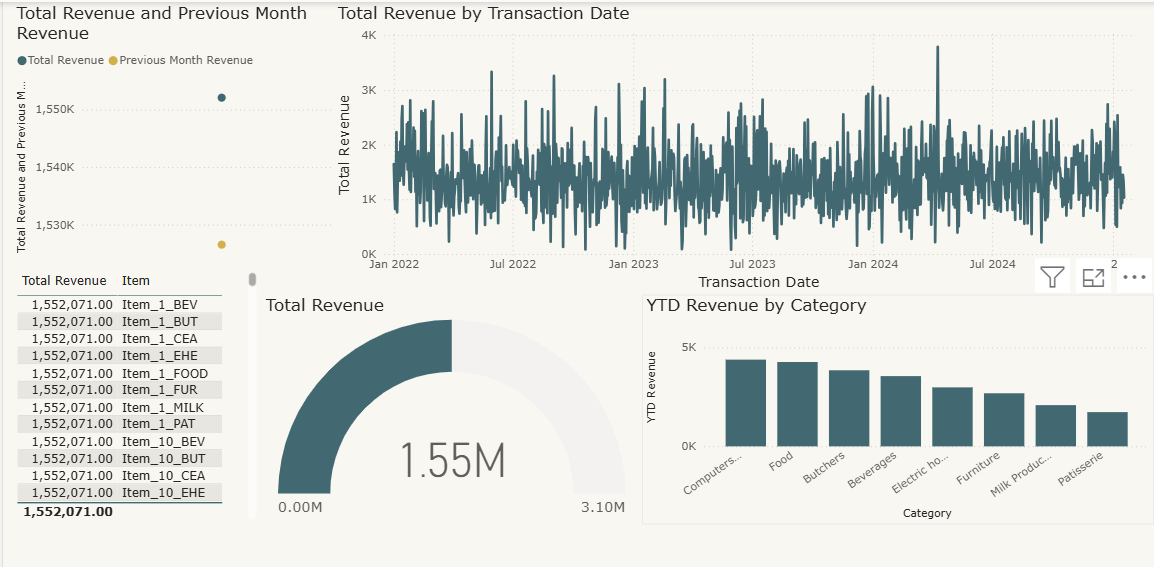

What the dashboard file says about the page in this screenshot:
{"tool":"powerbi","page":{"name":"Page 3","canvas":[1280,720],"ordinal":2},"visuals":[{"type":"areaChart","fields":{"Y":["Fact_Sales.Total Revenue","Fact_Sales.Previous Month Revenue"]},"box":[10,0,392,285.2],"z":0},{"type":"tableEx","fields":{"Values":["Fact_Sales.Total Revenue","retail_store_sales.Item"]},"box":[10,295.3,276.9,285.2],"z":1},{"type":"lineChart","fields":{"Y":["Fact_Sales.Total Revenue"],"Category":["Fact_Sales.Transaction Date"]},"box":[367,0,912.5,325.3],"z":2},{"type":"gauge","fields":{"Y":["Fact_Sales.Total Revenue"]},"box":[286.9,325.3,423.7,255.2],"z":3},{"type":"columnChart","fields":{"Y":["Fact_Sales.YTD Revenue"],"Category":["Fact_Sales.Category"]},"box":[710.6,325.3,568.8,255.2],"z":4}]}

Visuals, with their boxes on the page's 1280x720 design canvas (x1, y1, x2, y2). These are canvas units, not pixel positions in the 1154x567 screenshot, which may show the page scaled, cropped or inside an application window:
areaChart - Fact_Sales.Total Revenue x Fact_Sales.Previous Month Revenue: detection(10, 0, 402, 285)
tableEx - Fact_Sales.Total Revenue x retail_store_sales.Item: detection(10, 295, 287, 580)
lineChart - Fact_Sales.Total Revenue x Fact_Sales.Transaction Date: detection(367, 0, 1280, 325)
gauge - Fact_Sales.Total Revenue: detection(287, 325, 711, 580)
columnChart - Fact_Sales.YTD Revenue x Fact_Sales.Category: detection(711, 325, 1279, 580)
